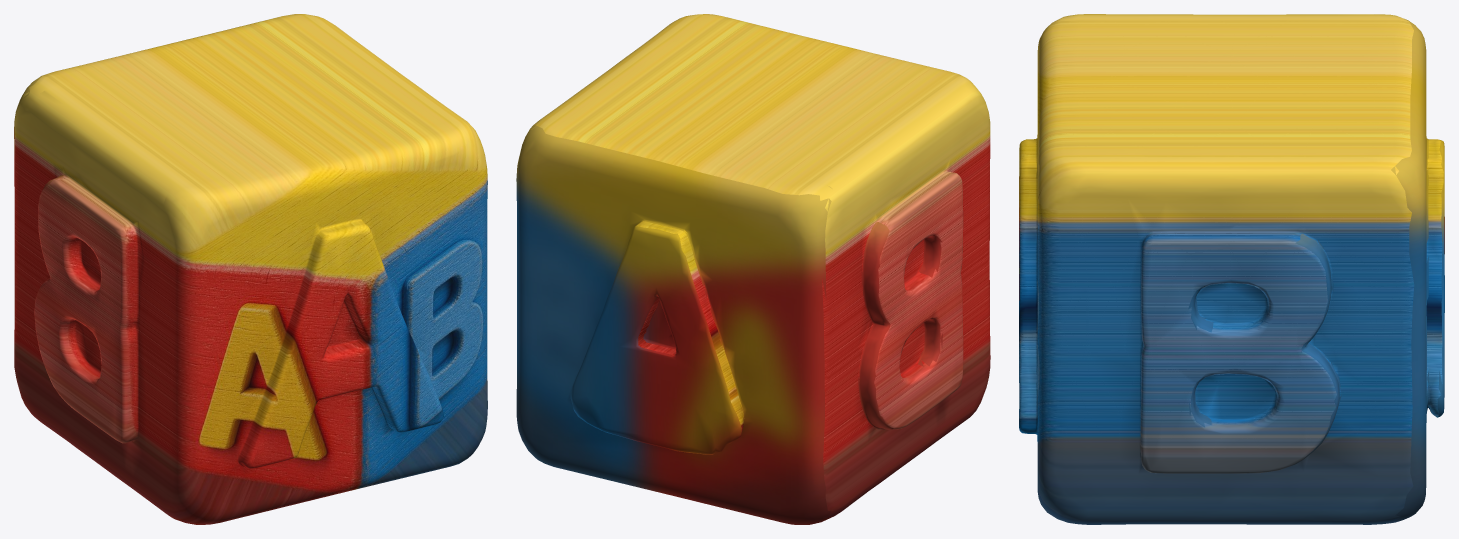
The model's file is abc_block.glb.
3 views of the same model, side by side, from view 1: azimuth 30°, elevation 25°; view 2: azimuth 150°, elevation 25°; view 3: azimuth 270°, elevation 25° (orthographic). The views are drawn at different scales.
Visible parts, largest first — view 1: abc_block; view 2: abc_block; view 3: abc_block.
Part boxes in pixels (bbox=[...]): abc_block: bbox=[14, 14, 487, 524]; abc_block: bbox=[516, 14, 990, 524]; abc_block: bbox=[1019, 14, 1444, 524].
Bounding box in the file's own units: 3.2 × 3.01 × 3.2.
Materials: 1 (1 with a texture image).
